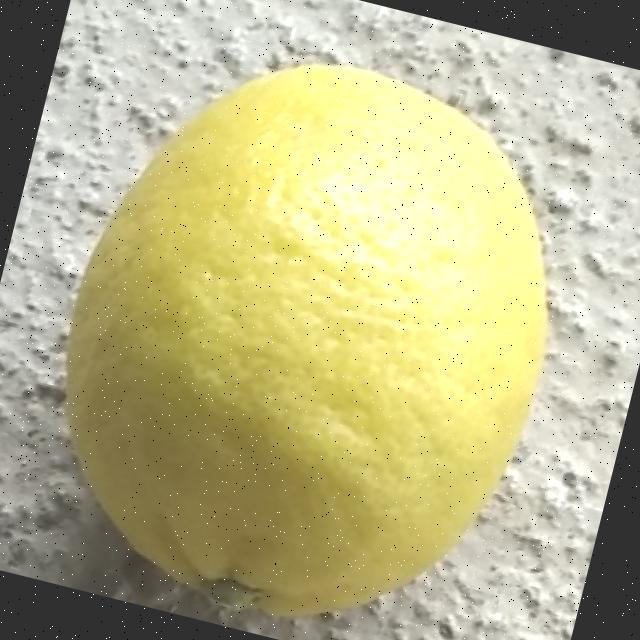Lemon: (18, 13, 605, 640)
